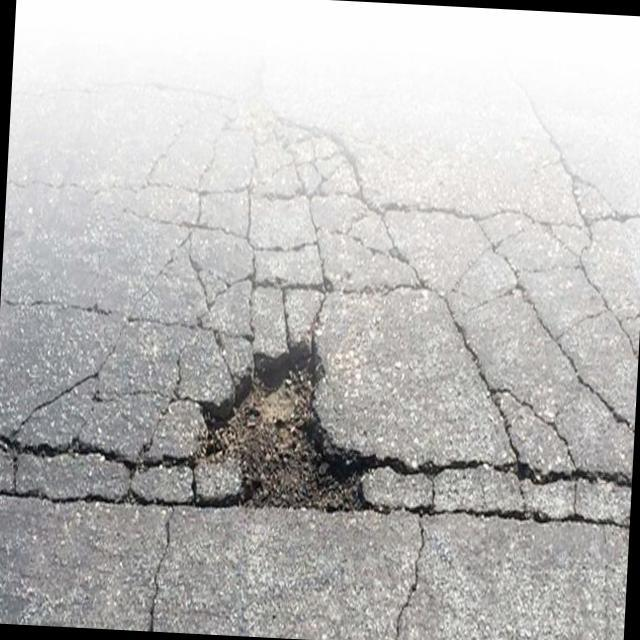Pothole: (188, 338, 377, 514)
